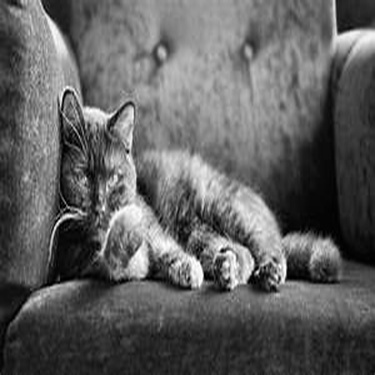cat: (52, 85, 342, 293)
